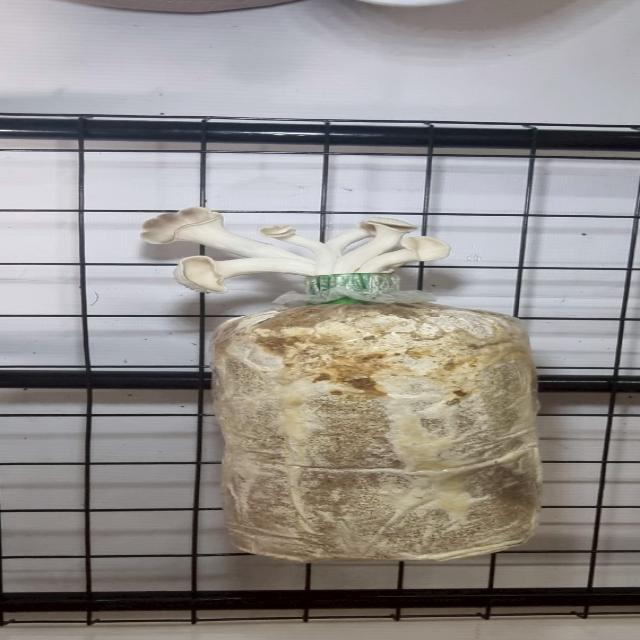normal: (127, 204, 468, 297)
